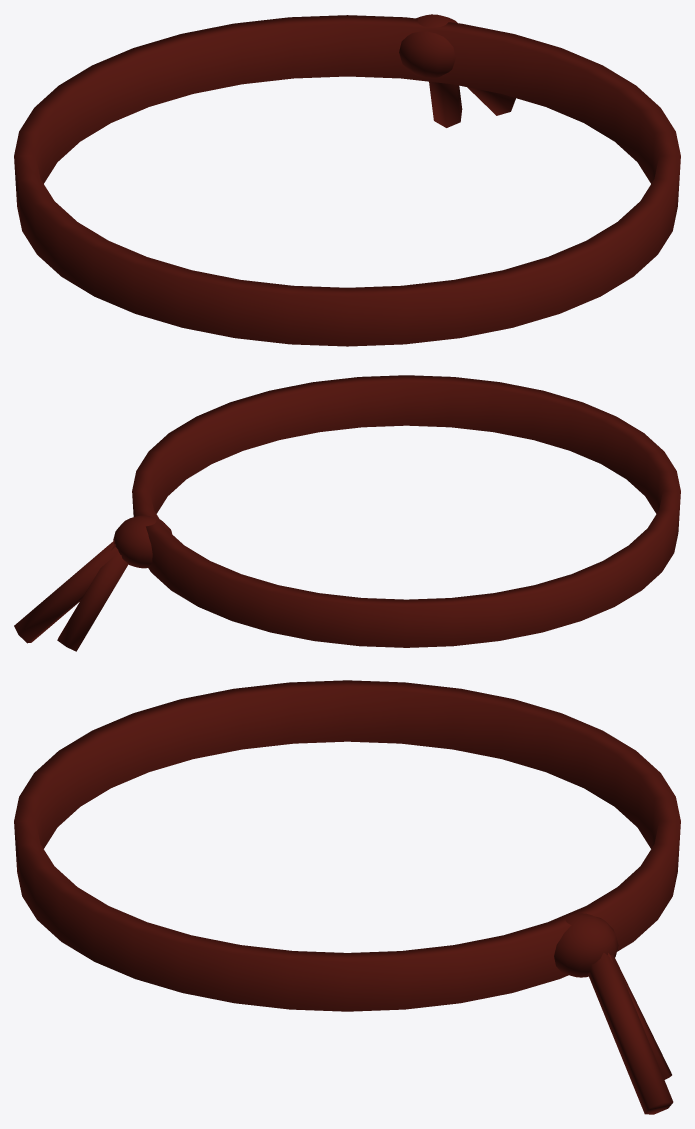
The model's file is ikat.obj.
The picture shows the model from 3 angles, top to bottom: view 1: azimuth 30°, elevation 25°; view 2: azimuth 150°, elevation 25°; view 3: azimuth 270°, elevation 25°; orthographic projection. The views are drawn at different scales.
Visible parts, largest first — view 1: ikat, ikat_simpul, ikat_ekor.001, ikat_ekor; view 2: ikat, ikat_ekor, ikat_ekor.001, ikat_simpul; view 3: ikat, ikat_ekor, ikat_simpul, ikat_ekor.001.
Boxes of the visible parts, left/top/right/bottom form: ikat: left=14, top=15, right=680, bottom=346; ikat_simpul: left=399, top=14, right=457, bottom=77; ikat_ekor.001: left=429, top=81, right=462, bottom=127; ikat_ekor: left=467, top=87, right=515, bottom=115; ikat: left=132, top=375, right=680, bottom=647; ikat_ekor: left=14, top=540, right=118, bottom=643; ikat_ekor.001: left=57, top=544, right=128, bottom=651; ikat_simpul: left=113, top=515, right=171, bottom=568; ikat: left=14, top=680, right=680, bottom=1011; ikat_ekor: left=588, top=953, right=673, bottom=1114; ikat_simpul: left=554, top=913, right=618, bottom=977; ikat_ekor.001: left=608, top=953, right=671, bottom=1079.
Size of the model in its own units: 2.26 by 0.5264 by 2.14.
